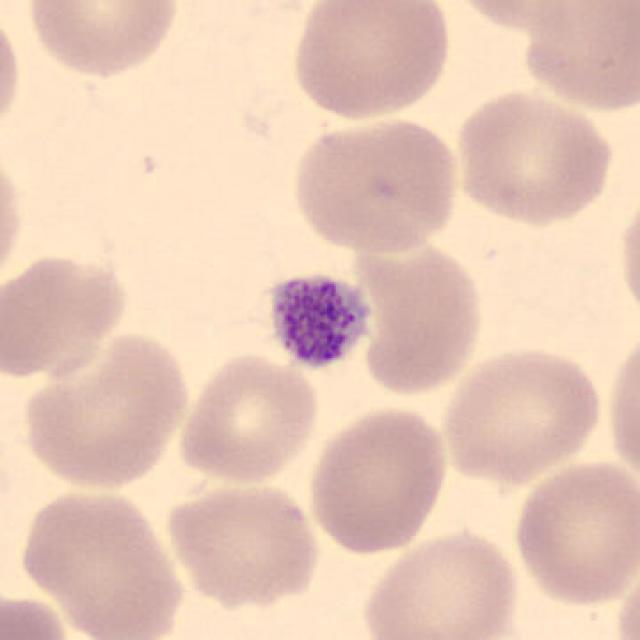Platelets: (258, 266, 375, 378)
RBC: (16, 326, 194, 494), (15, 482, 188, 638), (338, 224, 489, 400), (286, 111, 464, 256), (448, 84, 619, 228), (438, 340, 606, 485), (304, 402, 452, 557), (162, 474, 324, 612), (172, 348, 324, 488), (286, 0, 455, 123), (507, 457, 638, 610), (359, 523, 522, 640), (0, 246, 132, 382), (515, 0, 638, 116), (21, 0, 183, 81), (441, 0, 624, 39), (602, 324, 640, 497), (0, 140, 28, 294), (613, 185, 640, 332), (0, 589, 76, 640), (0, 4, 25, 144), (611, 557, 640, 640)
